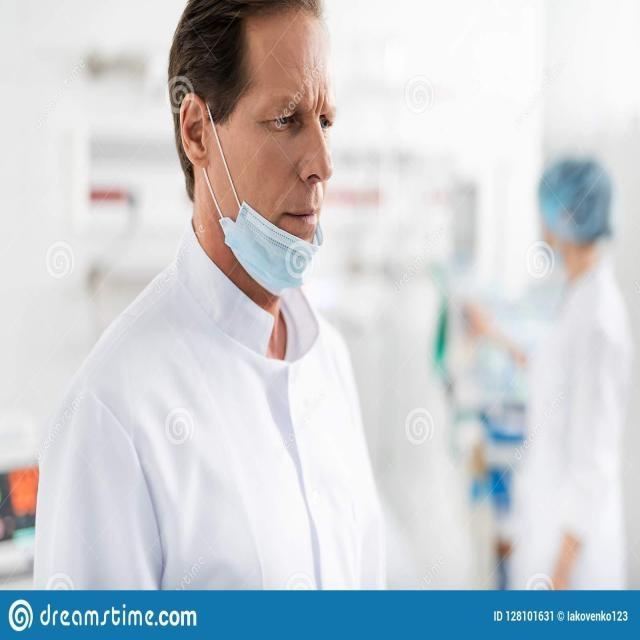hairnet: (172, 61, 346, 306)
